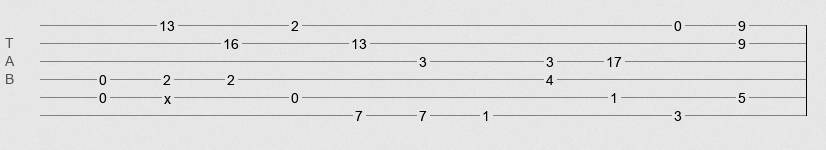0: (99, 72, 107, 82), (99, 90, 107, 100), (291, 90, 299, 100), (674, 18, 682, 28)
1: (482, 108, 490, 118), (610, 90, 618, 100)
13: (159, 18, 175, 28), (351, 36, 367, 46)
16: (223, 36, 239, 46)
17: (606, 54, 622, 64)
2: (163, 72, 171, 82), (227, 72, 235, 82), (291, 18, 299, 28)
3: (419, 54, 427, 64), (546, 54, 554, 64), (674, 108, 682, 118)
4: (546, 72, 554, 82)
5: (738, 90, 746, 100)
7: (355, 108, 363, 118), (419, 108, 427, 118)
9: (738, 18, 746, 28), (738, 36, 746, 46)
x: (164, 91, 171, 99)
